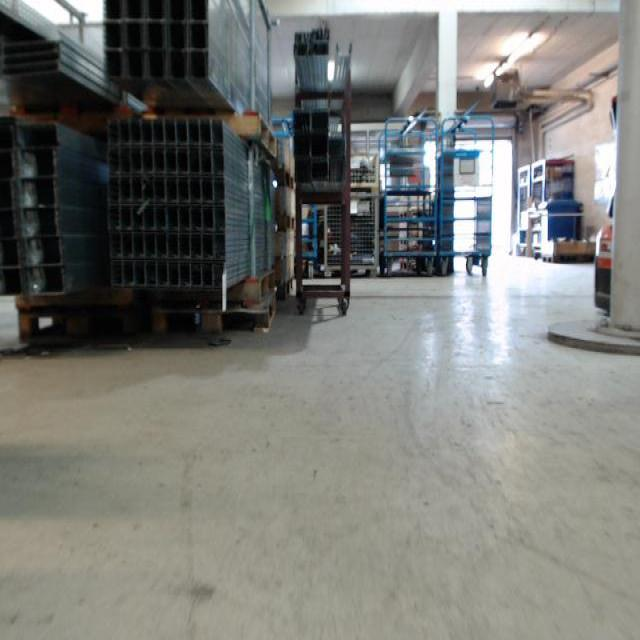pallet: (149, 288, 281, 336), (14, 312, 150, 348), (230, 267, 275, 306), (541, 254, 595, 265), (277, 169, 298, 189), (280, 276, 294, 301), (281, 210, 295, 231)
pallet_truck: (590, 91, 622, 316)
stillage: (326, 197, 385, 279), (338, 148, 382, 198)
